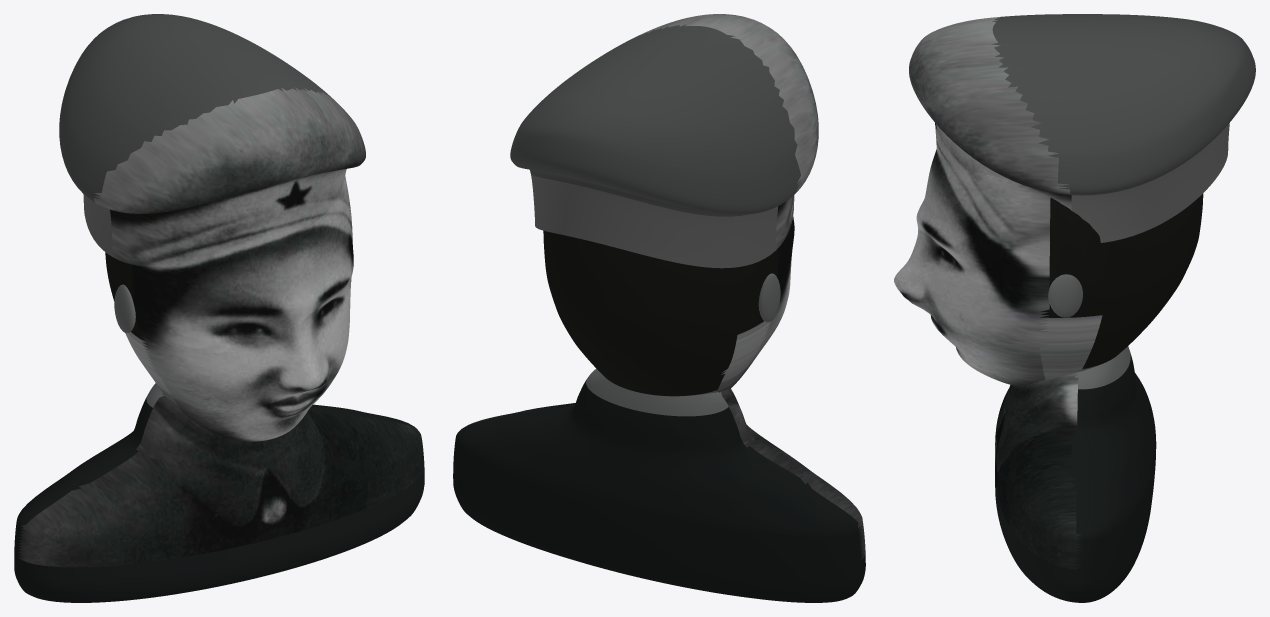
3 renders of one model, left to right at view 1: azimuth 30°, elevation 25°; view 2: azimuth 150°, elevation 25°; view 3: azimuth 270°, elevation 25°, orthographic. The views are drawn at different scales.
Visible parts, largest first — view 1: head_bust; view 2: head_bust; view 3: head_bust.
Part boxes in pixels (bbox=[...]): head_bust: bbox=[14, 14, 424, 602]; head_bust: bbox=[453, 14, 865, 602]; head_bust: bbox=[894, 14, 1255, 602].
Bounding box in the file's own units: 2.27 × 2.73 × 1.8.
Materials: 1 (1 with a texture image).
